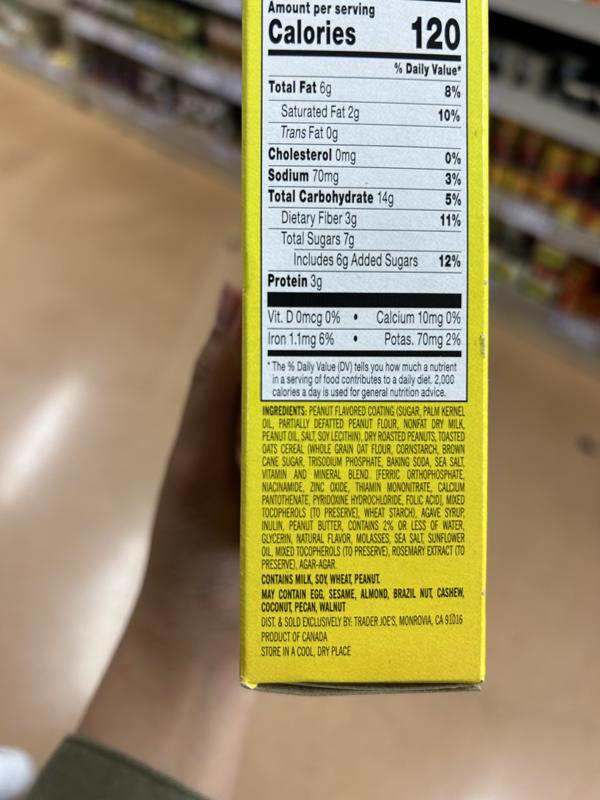ingredients: (260, 403, 467, 571)
